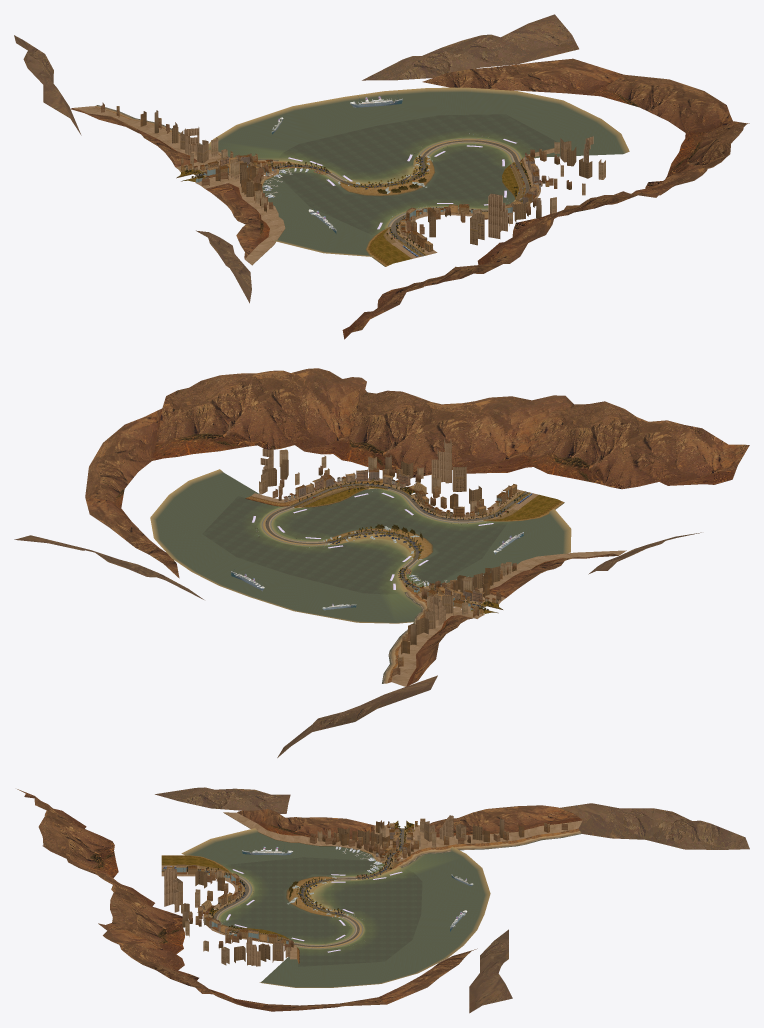
The model's file is stage-palm-bt.glb.
3 views of the same model, one above another, from view 1: azimuth 30°, elevation 25°; view 2: azimuth 150°, elevation 25°; view 3: azimuth 270°, elevation 25° (orthographic). The views are drawn at different scales.
Parts seen in each view (by area): view 1: part 5, part 1, part 2, env part 0, part 6, part 0, env part 1, env part 2; view 2: part 1, part 5, part 2, env part 0, env part 2, part 0, part 6, env part 1; view 3: part 1, part 5, part 2, env part 0, part 6, part 0.
Boxes of the visible parts, x1,y1,x2,y2 form: part 5: (208, 87, 629, 256); part 1: (14, 14, 749, 339); part 2: (101, 102, 605, 251); env part 0: (195, 138, 529, 256); part 6: (262, 96, 529, 256); part 0: (195, 139, 528, 255); env part 1: (178, 156, 530, 258); env part 2: (206, 153, 545, 212); part 1: (14, 368, 749, 757); part 5: (150, 469, 571, 623); part 2: (259, 438, 517, 675); env part 0: (261, 483, 527, 608); env part 2: (284, 469, 482, 602); part 0: (263, 483, 528, 608); part 6: (231, 483, 532, 610); env part 1: (278, 483, 537, 613); part 1: (17, 787, 749, 1013); part 5: (181, 828, 490, 987); part 2: (164, 815, 567, 966); env part 0: (162, 830, 404, 948); part 6: (163, 834, 473, 945); part 0: (161, 828, 404, 947).
Bounding box in the file's own units: 3707 × 382 × 4980.
Materials: 234 (230 with a texture image).
